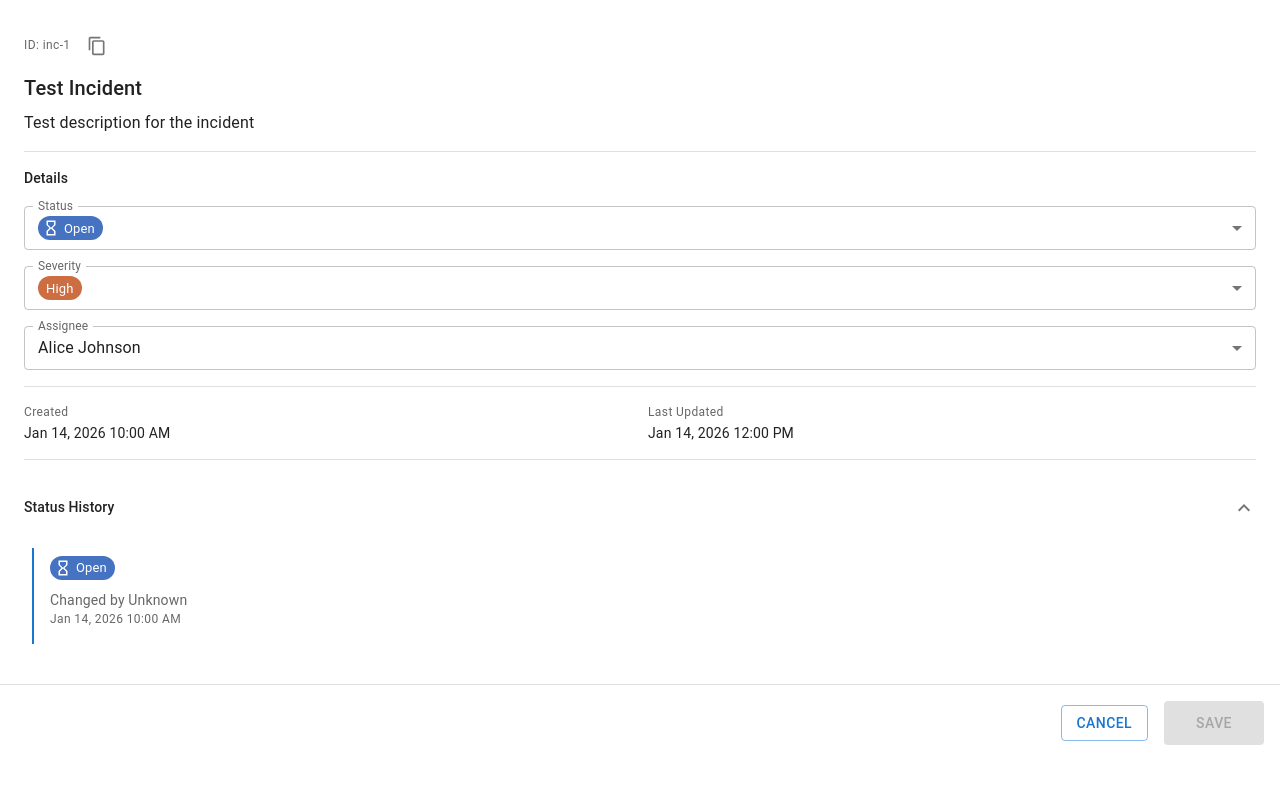
IncidentDetailForm › layout structure › can collapse the status history accordion
Click the button "Status History" at point(69, 507), box [24, 476, 1256, 540]
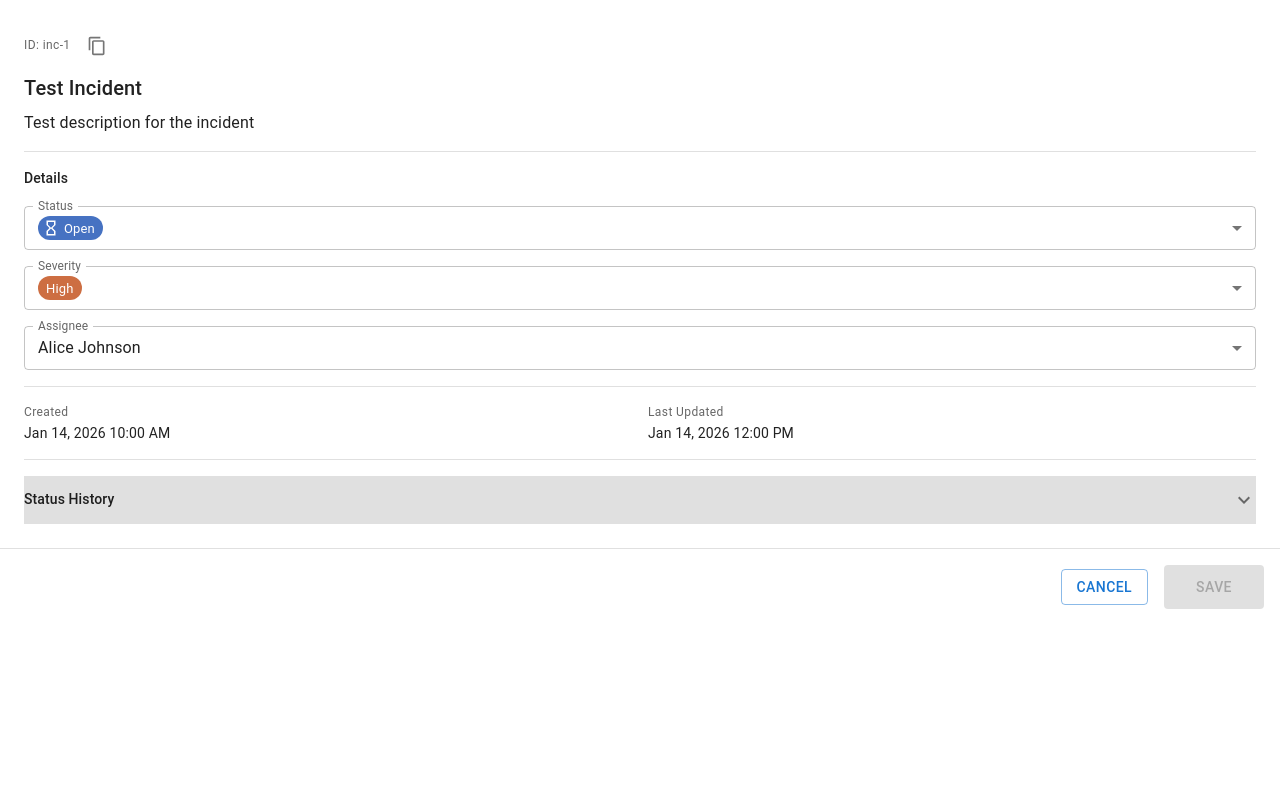
Result: the button "Status History" is collapsed at [24, 476, 1256, 524]
